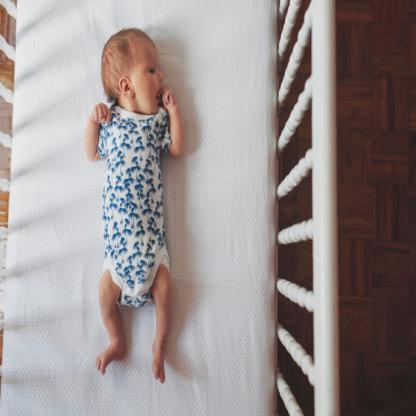baby: (83, 27, 185, 384)
